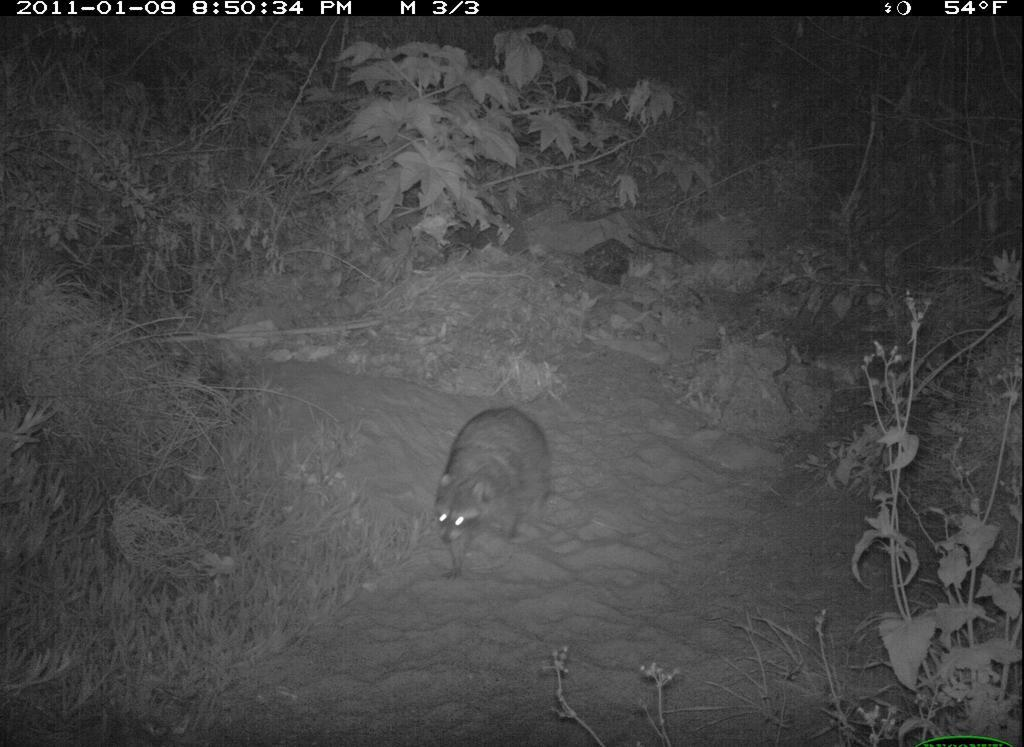raccoon: (409, 400, 568, 588)
